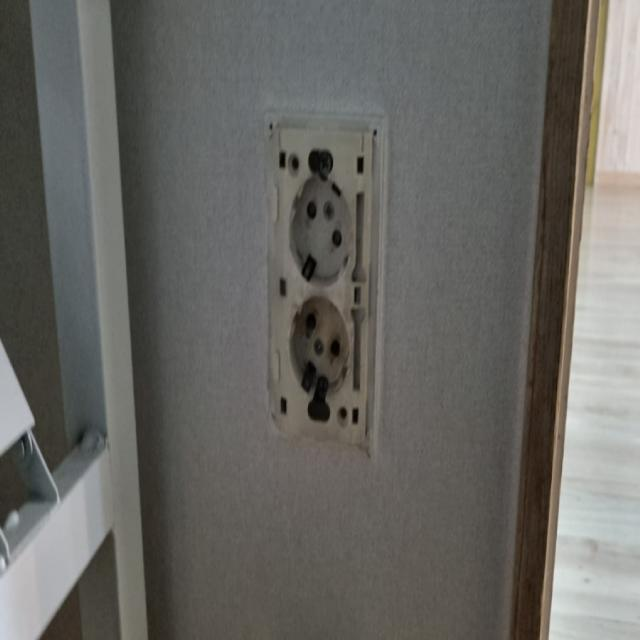typeb: (216, 83, 414, 502)
